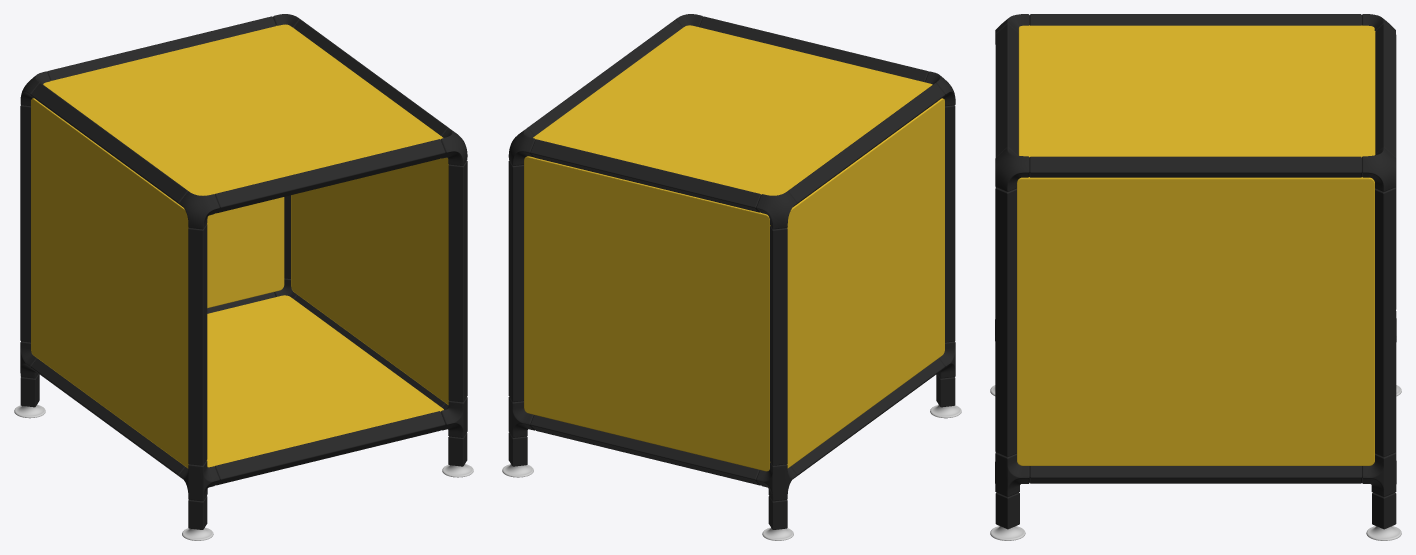
3 renders of one model, left to right at view 1: azimuth 30°, elevation 25°; view 2: azimuth 150°, elevation 25°; view 3: azimuth 270°, elevation 25°, orthographic. The views are drawn at different scales.
Visible parts, largest first — view 1: 329x374x329; view 2: 329x374x329; view 3: 329x374x329.
Boxes of the visible parts, left/top/right/bottom form: 329x374x329: left=14, top=14, right=473, bottom=540; 329x374x329: left=502, top=14, right=961, bottom=540; 329x374x329: left=990, top=14, right=1401, bottom=540.
Size of the model in its own units: 0.4189 by 0.4683 by 0.4632.
